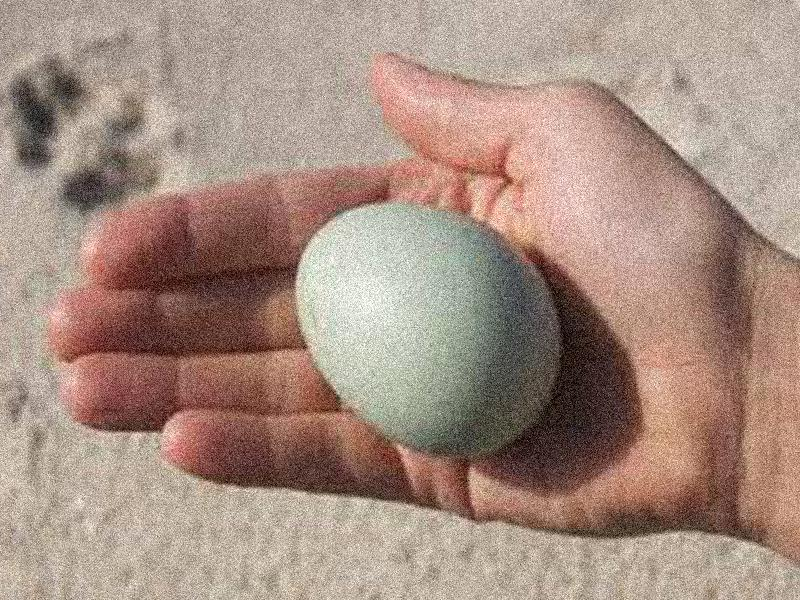Eggs: (292, 204, 556, 455)
